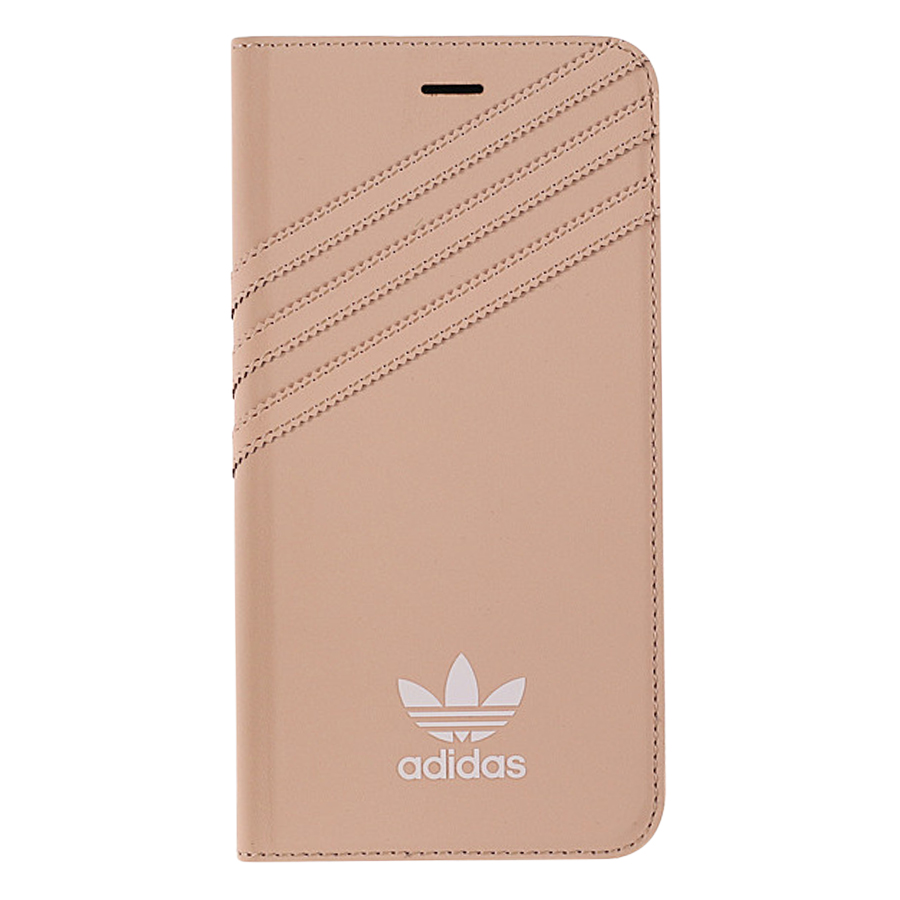Adidas: (385, 649, 542, 787)
